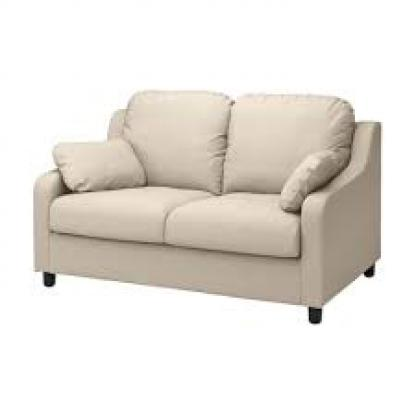sofa: (24, 91, 386, 331)
